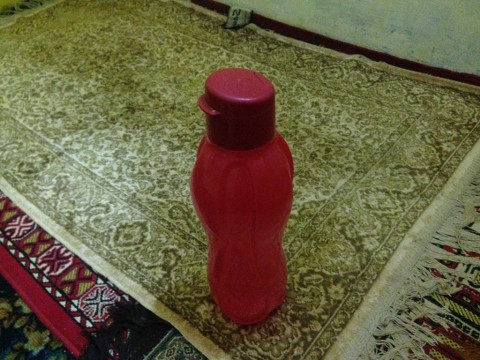tempat minum: (190, 68, 294, 326)
